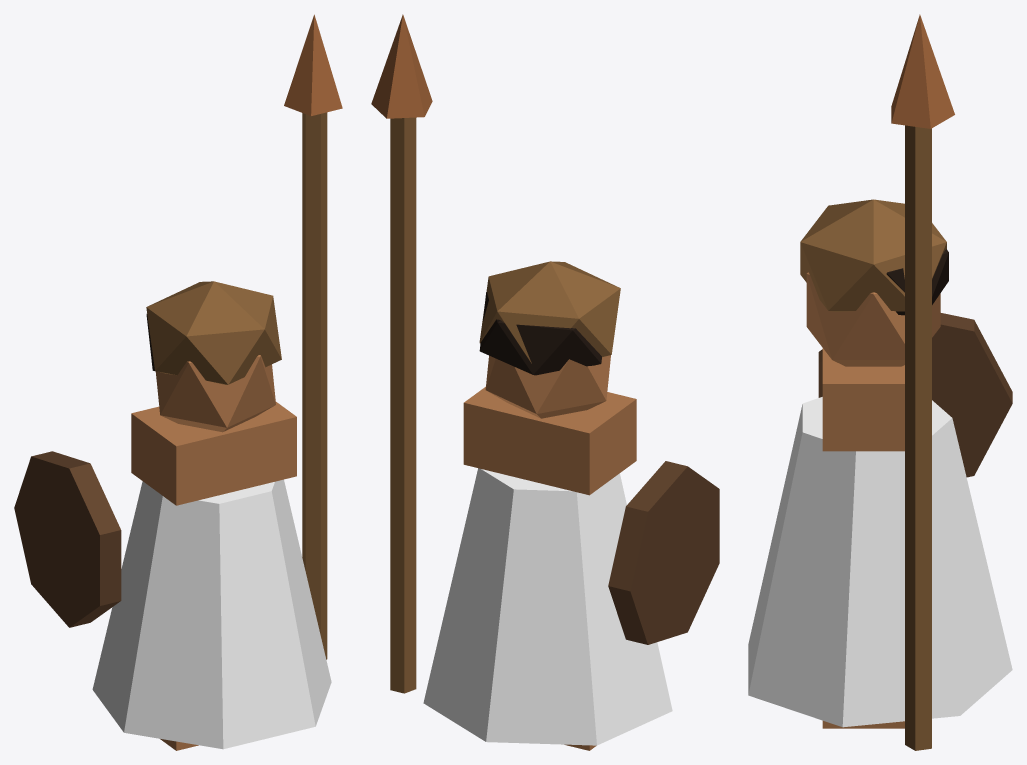
Rendered from warrior_copper.glb.
3 views of the same model, side by side, from view 1: azimuth 30°, elevation 25°; view 2: azimuth 150°, elevation 25°; view 3: azimuth 270°, elevation 25° (orthographic). The views are drawn at different scales.
Visible parts, largest first — view 1: part, part.009, part.007, part.003, part.006, part.004, part.008; view 2: part, part.007, part.009, part.003, part.006, part.004, part.005, part.008; view 3: part, part.007, part.006, part.009, part.003, part.004, part.008, part.005.
Boxes of the visible parts, x1=… form: part: x1=92, y1=479, x2=331, y2=749; part.009: x1=14, y1=451, x2=121, y2=627; part.007: x1=302, y1=112, x2=327, y2=659; part.003: x1=131, y1=401, x2=296, y2=505; part.006: x1=146, y1=281, x2=281, y2=384; part.004: x1=155, y1=355, x2=275, y2=432; part.008: x1=284, y1=14, x2=342, y2=115; part: x1=423, y1=468, x2=672, y2=745; part.007: x1=390, y1=117, x2=416, y2=693; part.009: x1=608, y1=461, x2=719, y2=644; part.003: x1=463, y1=386, x2=636, y2=495; part.006: x1=479, y1=261, x2=620, y2=363; part.004: x1=485, y1=355, x2=610, y2=418; part.005: x1=479, y1=292, x2=601, y2=375; part.008: x1=371, y1=14, x2=432, y2=118; part: x1=748, y1=397, x2=1012, y2=727; part.007: x1=905, y1=125, x2=931, y2=750; part.006: x1=800, y1=199, x2=946, y2=311; part.009: x1=818, y1=313, x2=1012, y2=477; part.003: x1=822, y1=348, x2=904, y2=451; part.004: x1=806, y1=272, x2=940, y2=366; part.008: x1=891, y1=14, x2=954, y2=128; part.005: x1=886, y1=249, x2=948, y2=315.
Bounding box in the file's own units: 0.4011 × 0.89 × 0.2851.
